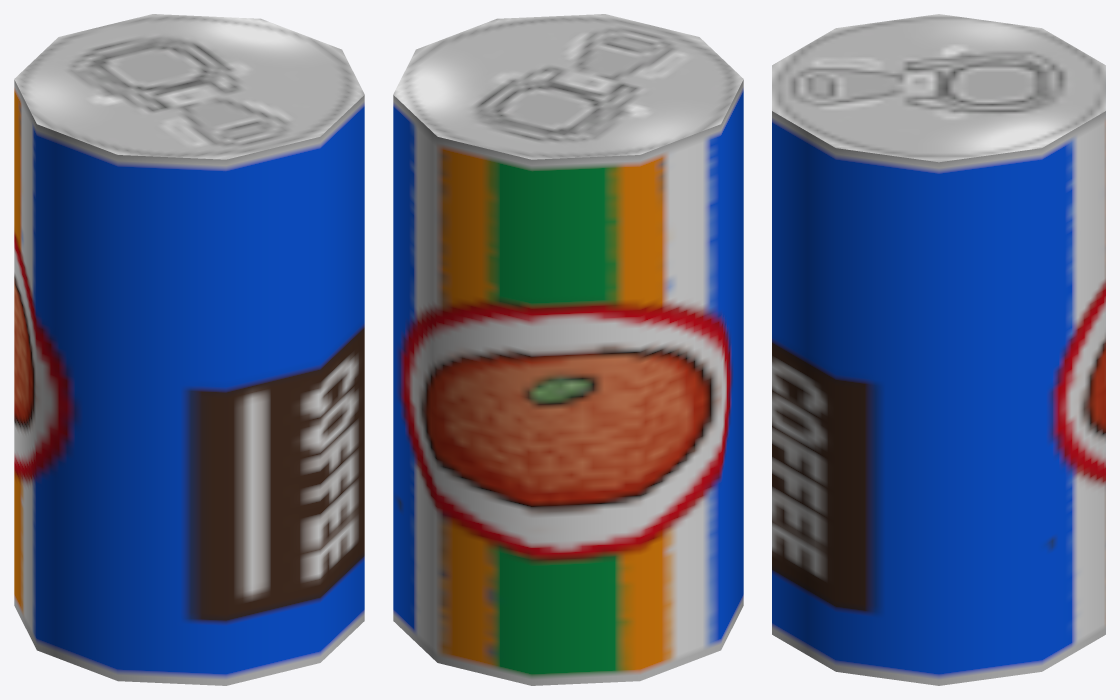
File: giftgoods083c.fbx
3 renders of one model, left to right at view 1: azimuth 30°, elevation 25°; view 2: azimuth 150°, elevation 25°; view 3: azimuth 270°, elevation 25°, orthographic.
Parts seen in each view (by area): view 1: giftgoods083c; view 2: giftgoods083c; view 3: giftgoods083c.
Boxes of the visible parts, box(x1,y1,x2,y2) form: giftgoods083c: box(14, 14, 364, 685); giftgoods083c: box(393, 14, 743, 685); giftgoods083c: box(772, 14, 1105, 685).
Size of the model in its own units: 0.0989 by 0.1628 by 0.094.
